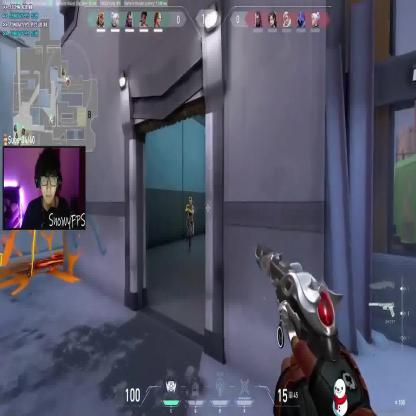enemy: (184, 196, 195, 253)
enemy_head: (188, 196, 192, 206)
